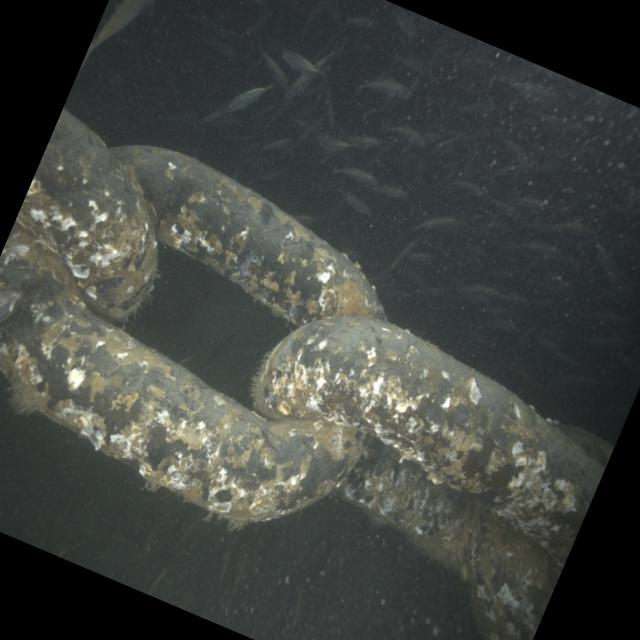ChainLink: (253, 316, 603, 567), (0, 298, 362, 523), (110, 145, 385, 326), (16, 108, 157, 319), (335, 440, 474, 576), (466, 507, 553, 640), (0, 220, 81, 305)
